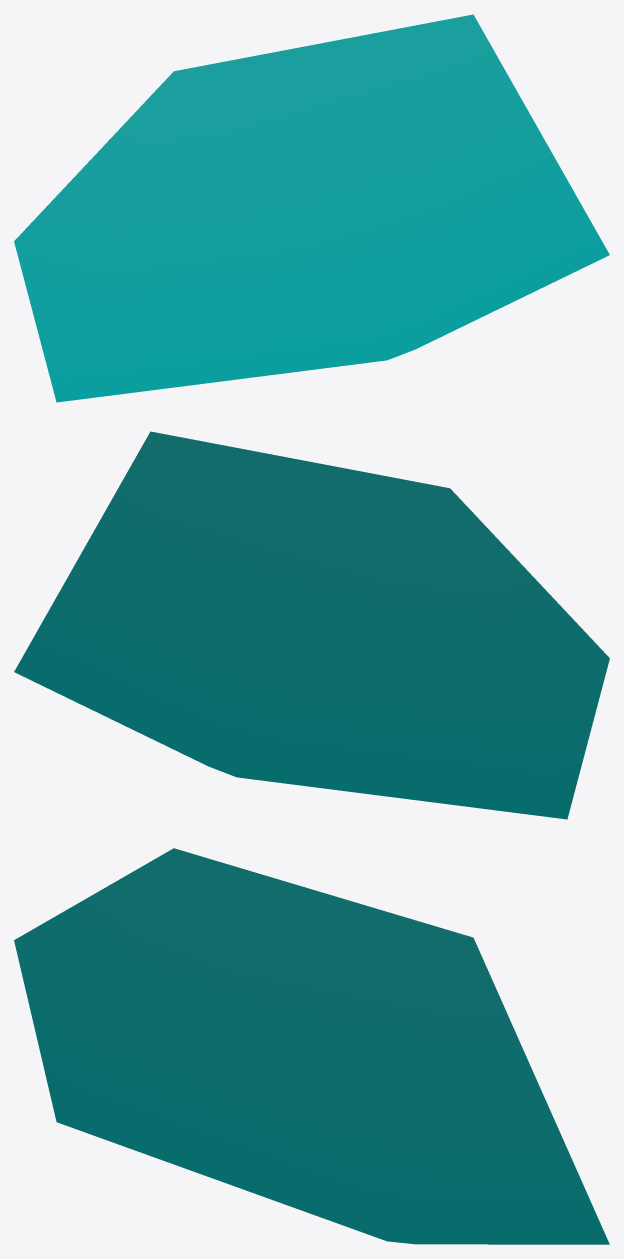
The model's file is Grass_slBm1_Mid_slBm1_VarE_LOD2.fbx.
3 renders of one model, top to bottom at view 1: azimuth 30°, elevation 25°; view 2: azimuth 150°, elevation 25°; view 3: azimuth 330°, elevation 25°, orthographic.
Parts seen in each view (by area): view 1: _f221_VarE_LOD3; view 2: _f221_VarE_LOD3; view 3: _f221_VarE_LOD3.
Boxes of the visible parts, box(x1,y1,x2,y2) form: _f221_VarE_LOD3: box(14, 14, 609, 402); _f221_VarE_LOD3: box(14, 431, 609, 819); _f221_VarE_LOD3: box(14, 848, 609, 1244).
Size of the model in its own units: 27.9 by 15.26 by 0.
